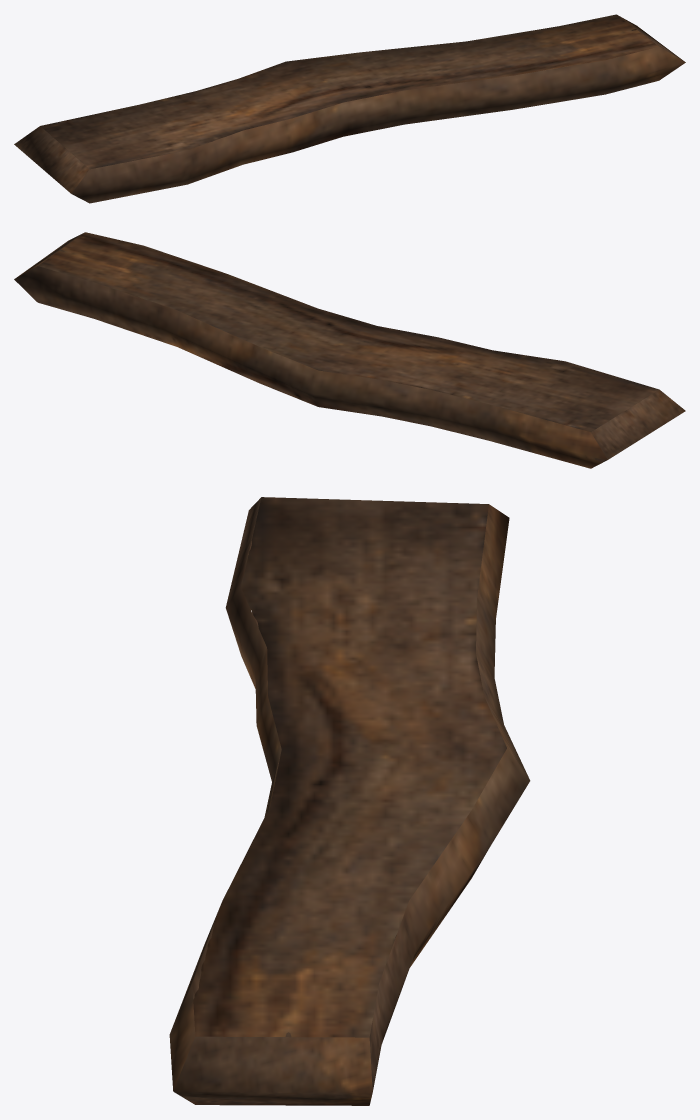
File: driftwood_1.FBX
The picture shows the model from 3 angles, top to bottom: view 1: azimuth 30°, elevation 25°; view 2: azimuth 150°, elevation 25°; view 3: azimuth 270°, elevation 25°; orthographic projection. The views are drawn at different scales.
Parts seen in each view (by area): view 1: driftwood_1; view 2: driftwood_1; view 3: driftwood_1.
Part boxes in pixels (left/top/right/bottom): driftwood_1: left=14, top=14, right=685, bottom=203; driftwood_1: left=14, top=232, right=685, bottom=468; driftwood_1: left=169, top=497, right=530, bottom=1105.
Bounding box in the file's own units: 195 × 10.7 × 51.18.
